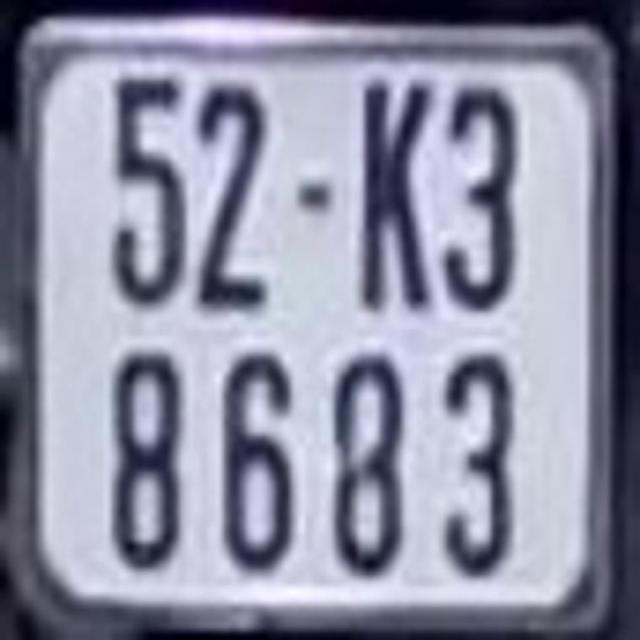2: (196, 82, 271, 304)
3: (437, 346, 512, 569), (448, 83, 516, 312)
5: (113, 78, 187, 300)
6: (216, 346, 296, 565)
8: (108, 352, 178, 568), (332, 350, 400, 572)
K: (356, 85, 440, 308)
